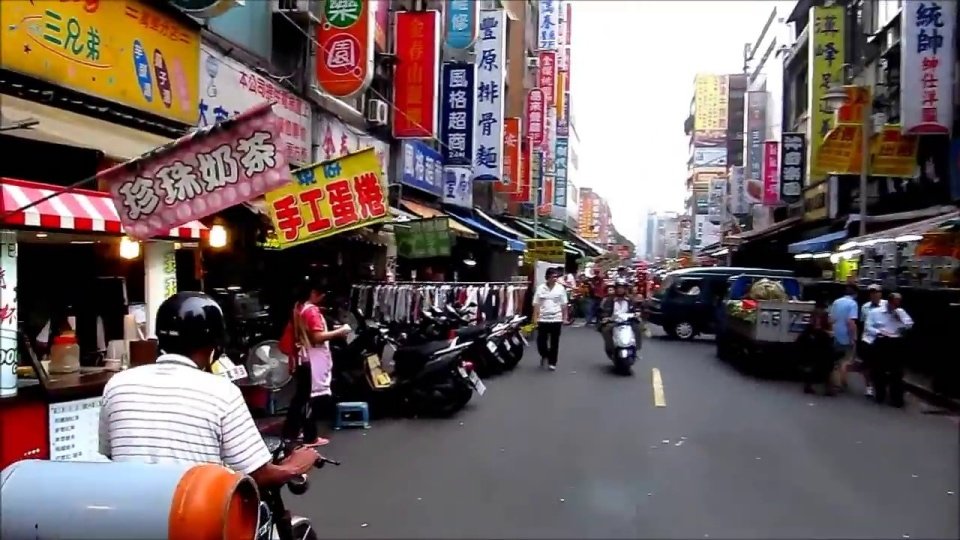person_head: (153, 292, 225, 366), (295, 273, 330, 300), (864, 282, 882, 309), (542, 267, 561, 290), (886, 291, 901, 310), (843, 282, 858, 300), (603, 281, 617, 294), (615, 282, 627, 297)
person_vbox: (93, 289, 323, 540), (278, 263, 354, 447), (865, 284, 918, 411), (528, 255, 569, 372), (598, 276, 644, 363), (826, 276, 861, 390), (856, 276, 888, 399)
